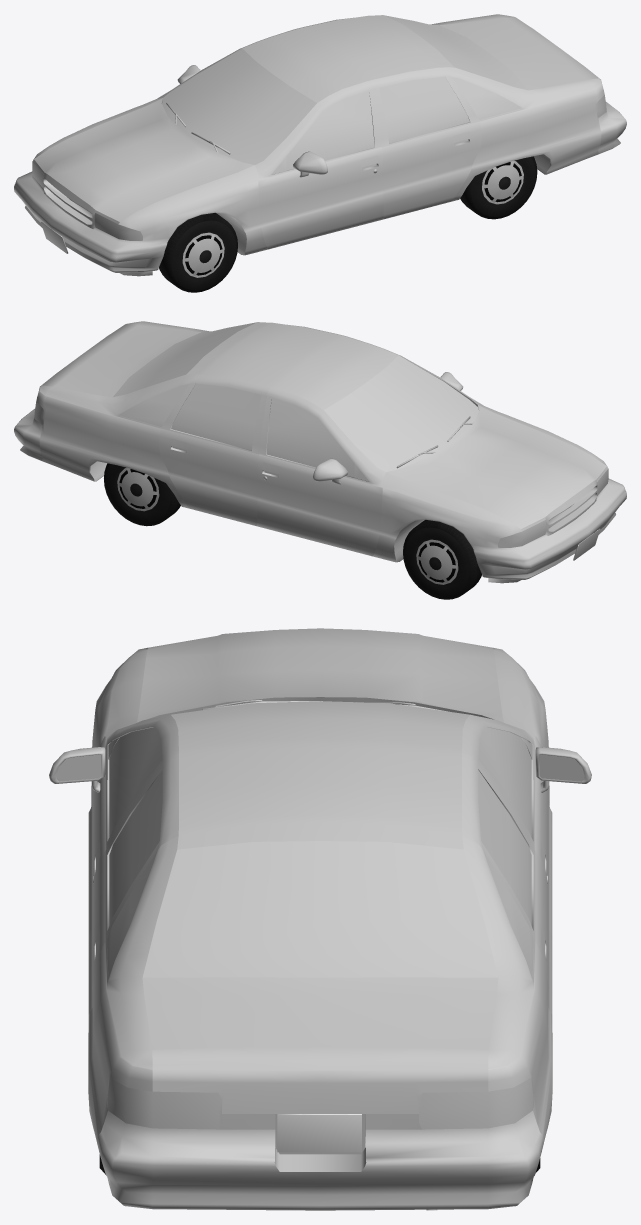
File: sedan.fbx
3 renders of one model, top to bottom at view 1: azimuth 30°, elevation 25°; view 2: azimuth 150°, elevation 25°; view 3: azimuth 270°, elevation 25°, orthographic. The views are drawn at different scales.
Parts seen in each view (by area): view 1: Cube_015, Cube_019, Cube_008, Cube_002; view 2: Cube_015, Cube_019, Cube_007, Cube_000; view 3: Cube_015, Cube_019, Cube_006, Cube_003.
Boxes of the visible parts, bbox=[...] form: Cube_015: bbox=[14, 14, 626, 276]; Cube_019: bbox=[162, 15, 527, 170]; Cube_008: bbox=[159, 213, 237, 292]; Cube_002: bbox=[460, 156, 537, 219]; Cube_015: bbox=[14, 321, 626, 583]; Cube_019: bbox=[113, 322, 478, 477]; Cube_007: bbox=[403, 520, 481, 599]; Cube_000: bbox=[104, 463, 180, 526]; Cube_015: bbox=[49, 628, 591, 1210]; Cube_019: bbox=[107, 727, 533, 979]; Cube_006: bbox=[277, 1114, 361, 1152]; Cube_003: bbox=[56, 754, 584, 781].
Bounding box in the file's own units: 9.76 × 2.78 × 4.34.
